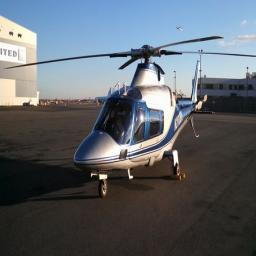helicopter: (35, 28, 219, 212)
